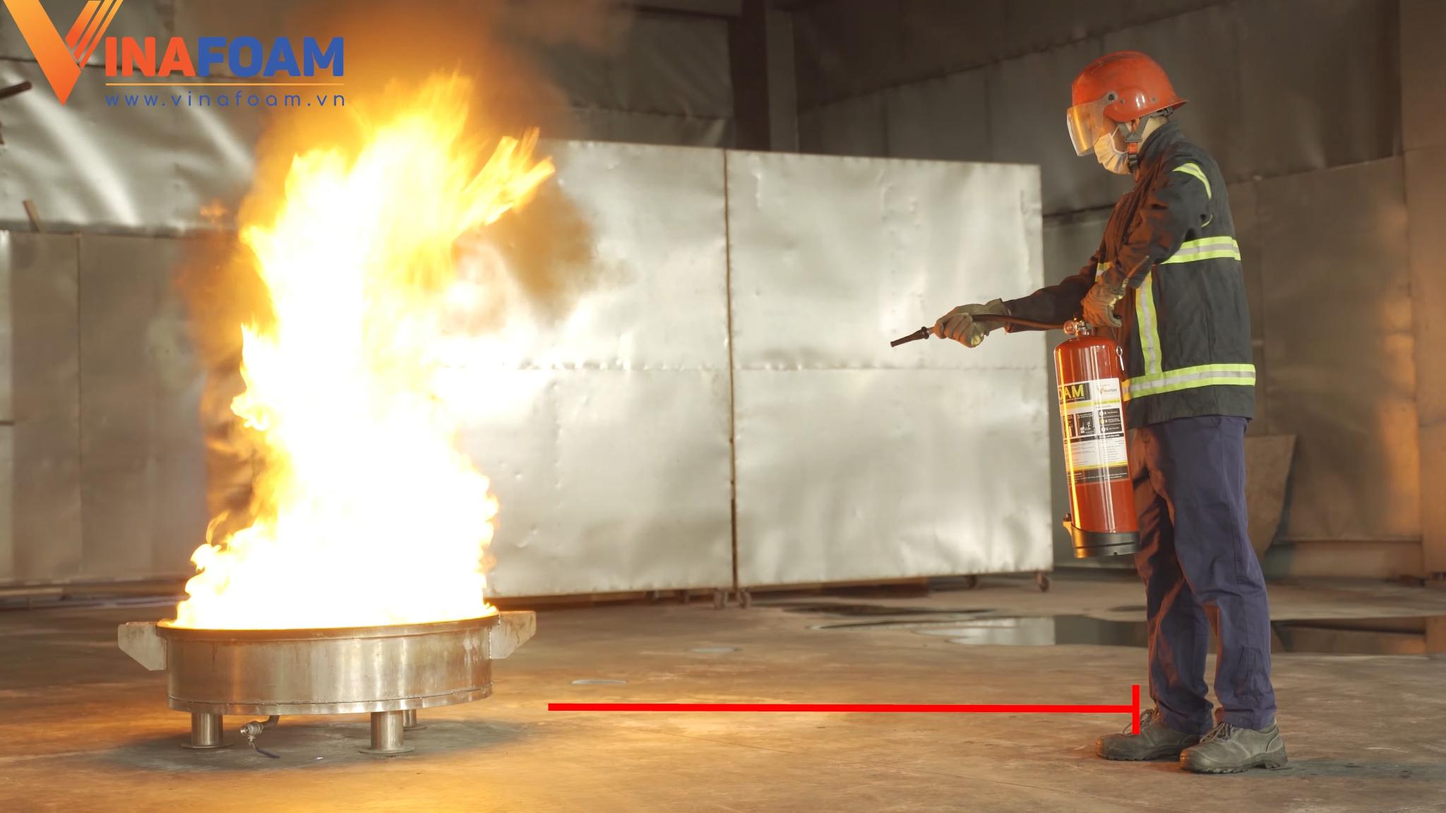FireExtinguisher: (1040, 311, 1146, 570)
